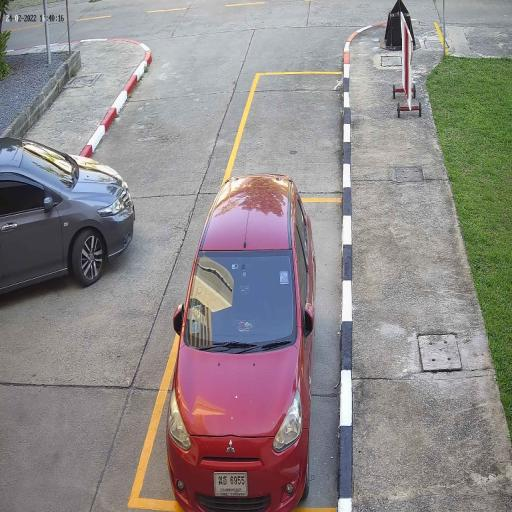car: (164, 171, 317, 512), (0, 136, 136, 300)
